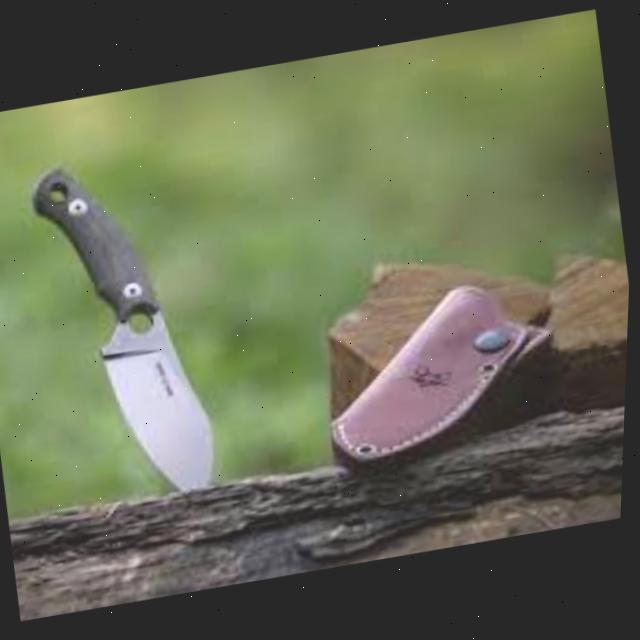knife: (20, 143, 235, 511)
